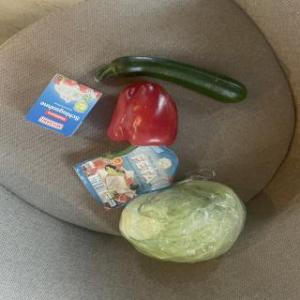bell_pepper: (110, 83, 183, 153)
cabbage: (110, 175, 250, 265)
zucchini: (90, 53, 250, 119)
